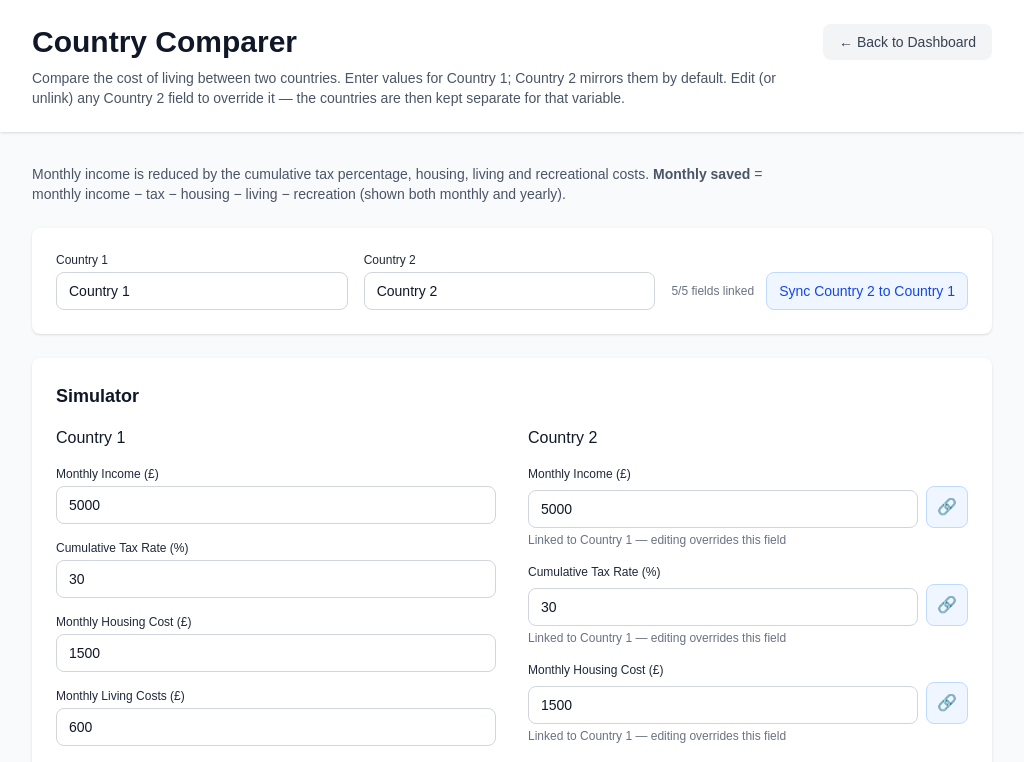
it: CountryComparer › highlights the country with the higher monthly savings
Note: Make Country 2 save more by raising its income.
Replace the text in the number field with id "country2-income" with "9000": [723, 509] box x1=528 y1=490 x2=918 y2=528
(page scrolled)
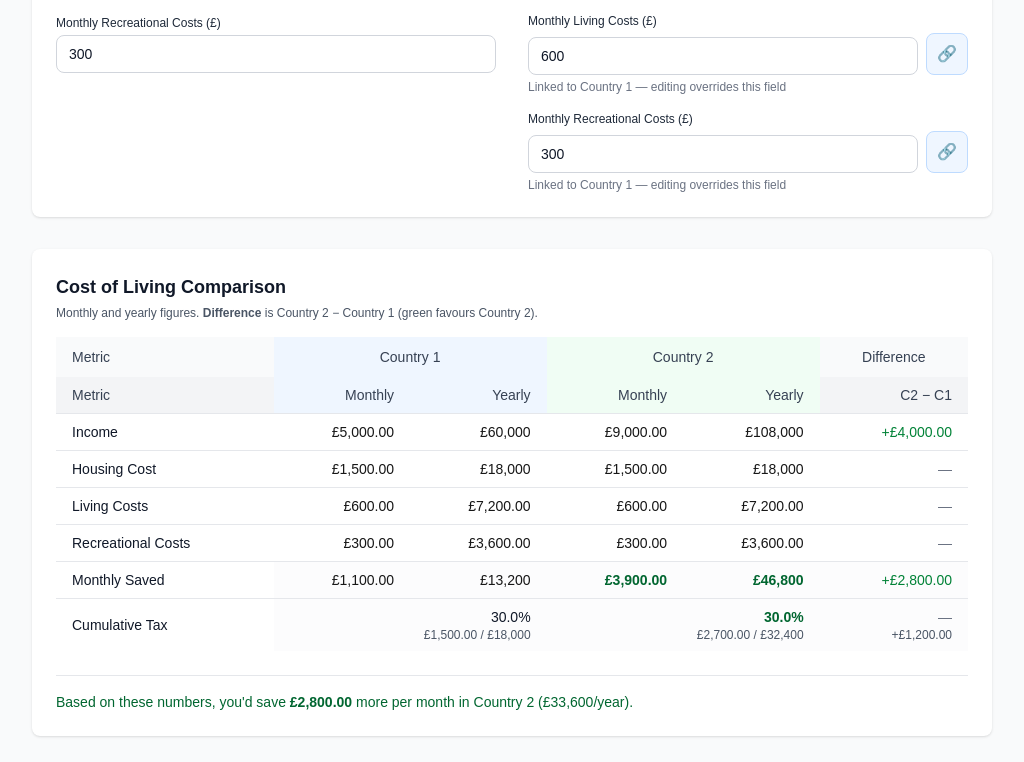
Expected: the text "you'd save" is shown, x1=56 y1=694 x2=286 y2=710
Expected: the text "more per month in" shows "Country 2", x1=474 y1=694 x2=534 y2=710
